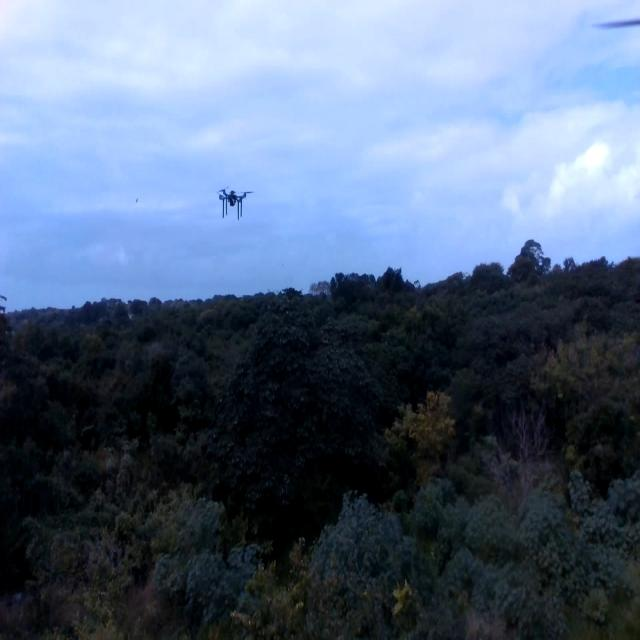-uav-: (214, 180, 258, 232)
